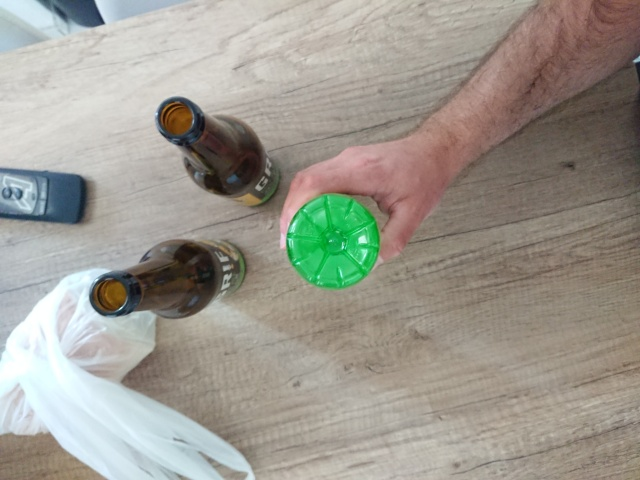Vindi Iso Sport Lemon-Grapefruit 500mL: (282, 189, 384, 293)
